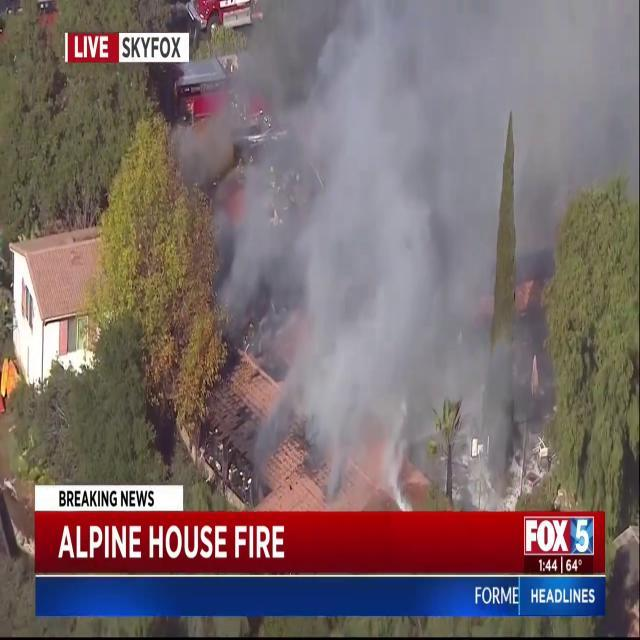Smoke: (200, 0, 531, 511)
